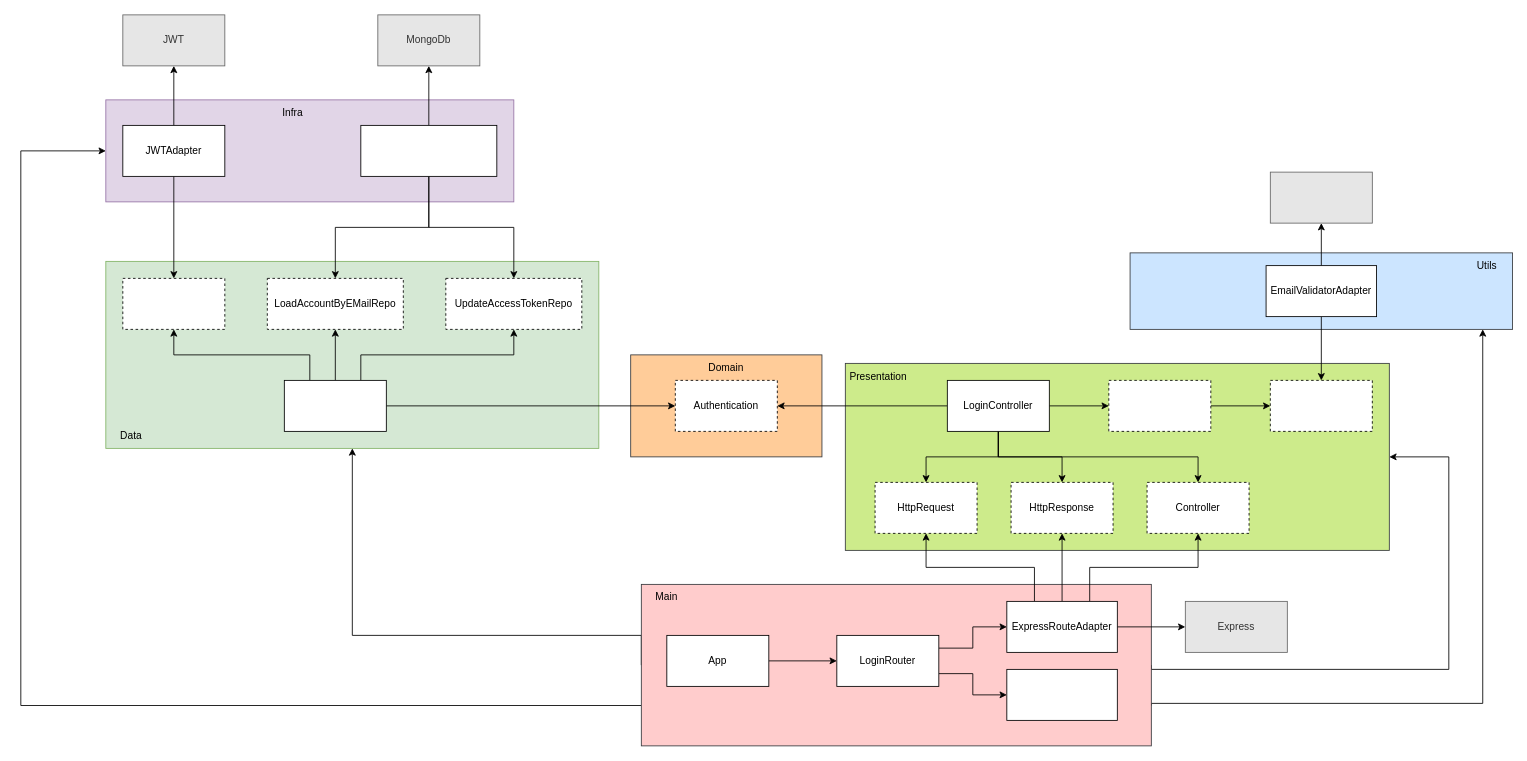
Some shapes in this 1527 by 761 pixel diagram are drawn without their labels. The shapes that lost their labels are listed below. From the top down, each one's centre as x and y in pixels, then its label:
At (x=428, y=150): "AccountMongoRepository".
At (x=1320, y=197): "Validator".
At (x=173, y=303): "TokenGenerator".
At (x=334, y=405): "DbAuthentication".
At (x=1159, y=405): "Validation".
At (x=1320, y=405): "EmailValidator".
At (x=1061, y=694): "makeLoginController".
